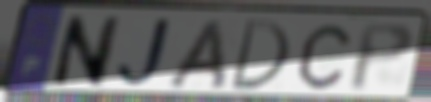A: (164, 18, 229, 92)
C: (295, 22, 353, 92)
D: (227, 17, 293, 94)
J: (114, 16, 180, 91)
N: (48, 14, 124, 90)
P: (347, 21, 417, 95)
